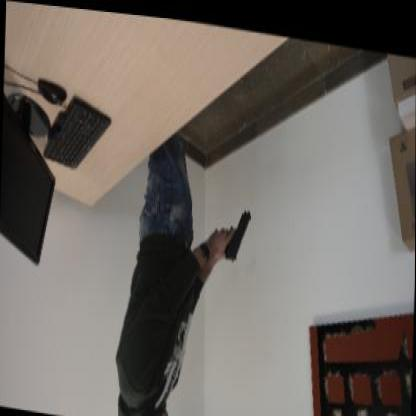pistol: (224, 200, 250, 258)
